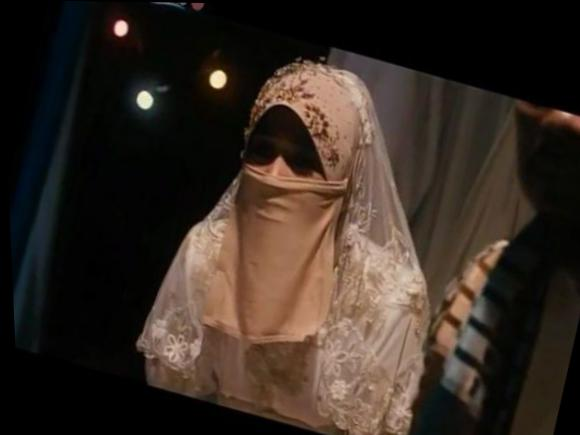NONE: (485, 72, 580, 225)
WRONG: (225, 107, 342, 241)
